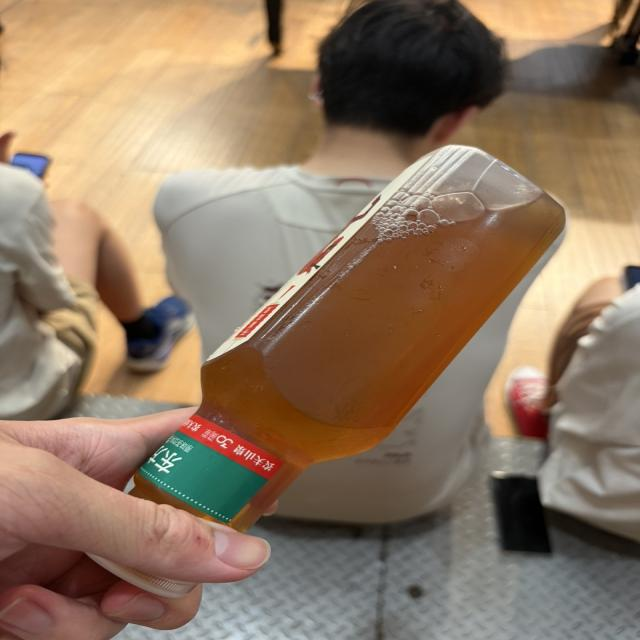high: (198, 146, 564, 466)
